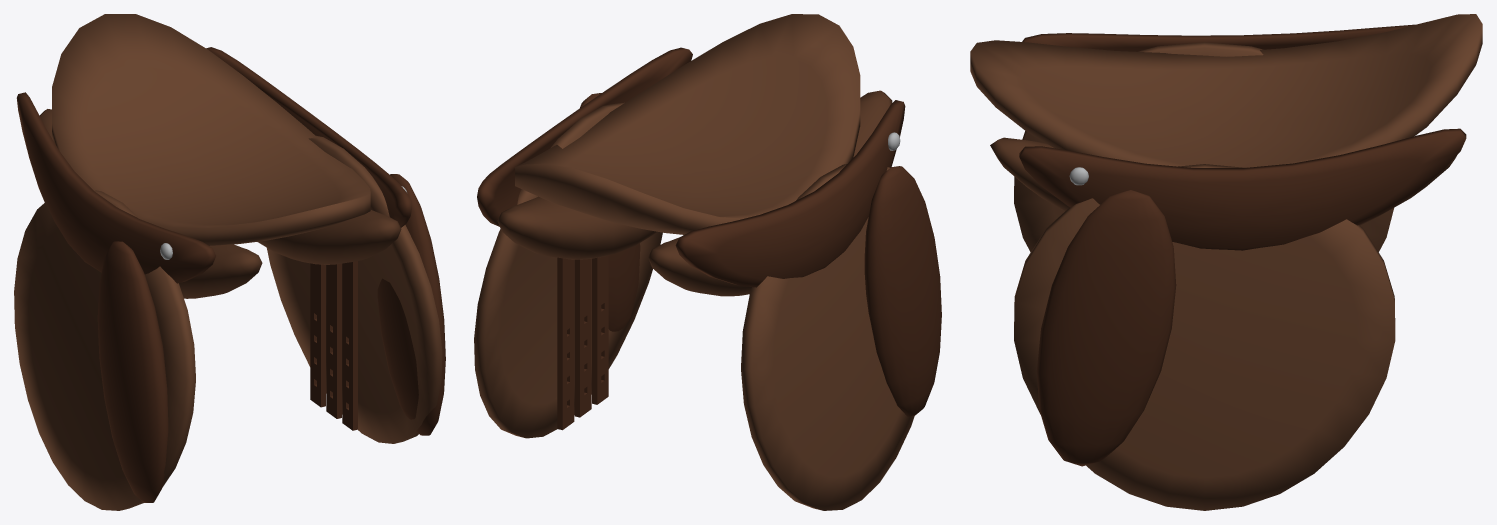
The picture shows the model from 3 angles, left to right: view 1: azimuth 30°, elevation 25°; view 2: azimuth 150°, elevation 25°; view 3: azimuth 270°, elevation 25°; orthographic projection. The views are drawn at different scales.
Parts seen in each view (by area): view 1: Curved padded seat with pommel and cantle, Hanging saddle flap -1, Hanging saddle flap 1, Raised front knee roll -1, Upper leather skirt -1, Raised front knee roll 1, Underside padded panel 1, Upper leather skirt 1, Underside padded panel -1, Girth billet 1 0, Girth billet 1 1, Girth billet 1 2; view 2: Curved padded seat with pommel and cantle, Hanging saddle flap -1, Hanging saddle flap 1, Upper leather skirt -1, Raised front knee roll -1, Underside padded panel 1, Upper leather skirt 1, Underside padded panel -1, Girth billet 1 2, Girth billet 1 1, Girth billet 1 0, Raised front knee roll 1; view 3: Hanging saddle flap 1, Curved padded seat with pommel and cantle, Raised front knee roll 1, Upper leather skirt 1, Upper leather skirt -1, Hanging saddle flap -1, Underside padded panel 1.
Boxes of the visible parts, x1,y1,x2,y2 form: Curved padded seat with pommel and cantle: (52, 14, 370, 245); Hanging saddle flap -1: (14, 190, 195, 510); Hanging saddle flap 1: (267, 135, 442, 443); Raised front knee roll -1: (97, 241, 168, 502); Upper leather skirt -1: (16, 92, 215, 283); Raised front knee roll 1: (377, 174, 445, 435); Underside padded panel 1: (257, 210, 401, 264); Upper leather skirt 1: (206, 47, 411, 227); Underside padded panel -1: (39, 109, 262, 298); Girth billet 1 0: (342, 261, 357, 430); Girth billet 1 1: (326, 263, 341, 418); Girth billet 1 2: (310, 263, 325, 407); Curved padded seat with pommel and cantle: (515, 14, 860, 234); Hanging saddle flap -1: (741, 164, 914, 510); Hanging saddle flap 1: (474, 102, 662, 438); Upper leather skirt -1: (675, 100, 905, 287); Raised front knee roll -1: (864, 166, 941, 416); Underside padded panel 1: (497, 196, 656, 259); Upper leather skirt 1: (477, 47, 692, 226); Underside padded panel -1: (648, 90, 892, 296); Girth billet 1 2: (557, 257, 574, 430); Girth billet 1 1: (574, 259, 591, 417); Girth billet 1 0: (592, 255, 608, 404); Raised front knee roll 1: (580, 93, 640, 331); Hanging saddle flap 1: (1014, 164, 1395, 510); Curved padded seat with pommel and cantle: (970, 14, 1482, 167); Raised front knee roll 1: (1036, 190, 1176, 466); Upper leather skirt 1: (1019, 128, 1466, 250); Upper leather skirt -1: (1022, 24, 1414, 51); Hanging saddle flap -1: (1014, 42, 1393, 252); Underside padded panel 1: (990, 137, 1456, 225).
Bounding box in the file's own units: 0.374 × 0.413 × 0.47.
